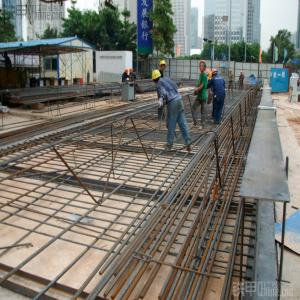red: (200, 60, 207, 73), (212, 71, 219, 78), (125, 69, 129, 76), (130, 68, 134, 75), (230, 70, 233, 75), (241, 72, 244, 76)
yellow: (153, 70, 162, 84), (160, 60, 167, 71)
